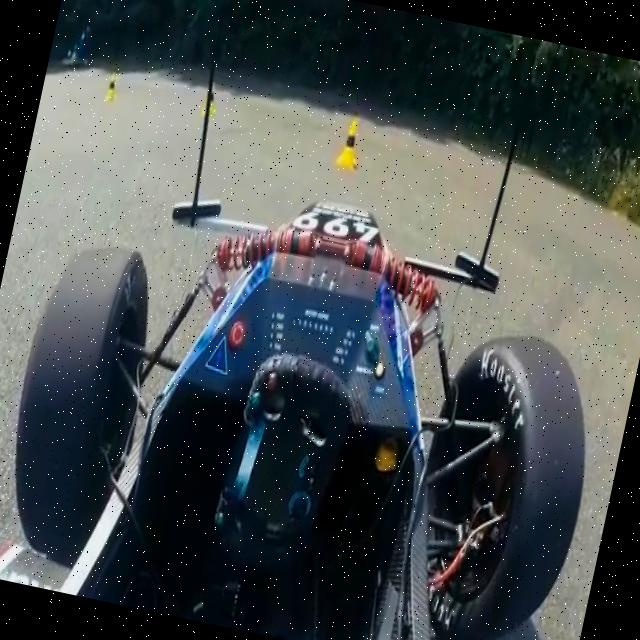yellow_cone: (329, 112, 368, 174), (197, 83, 222, 122), (102, 71, 120, 104)
